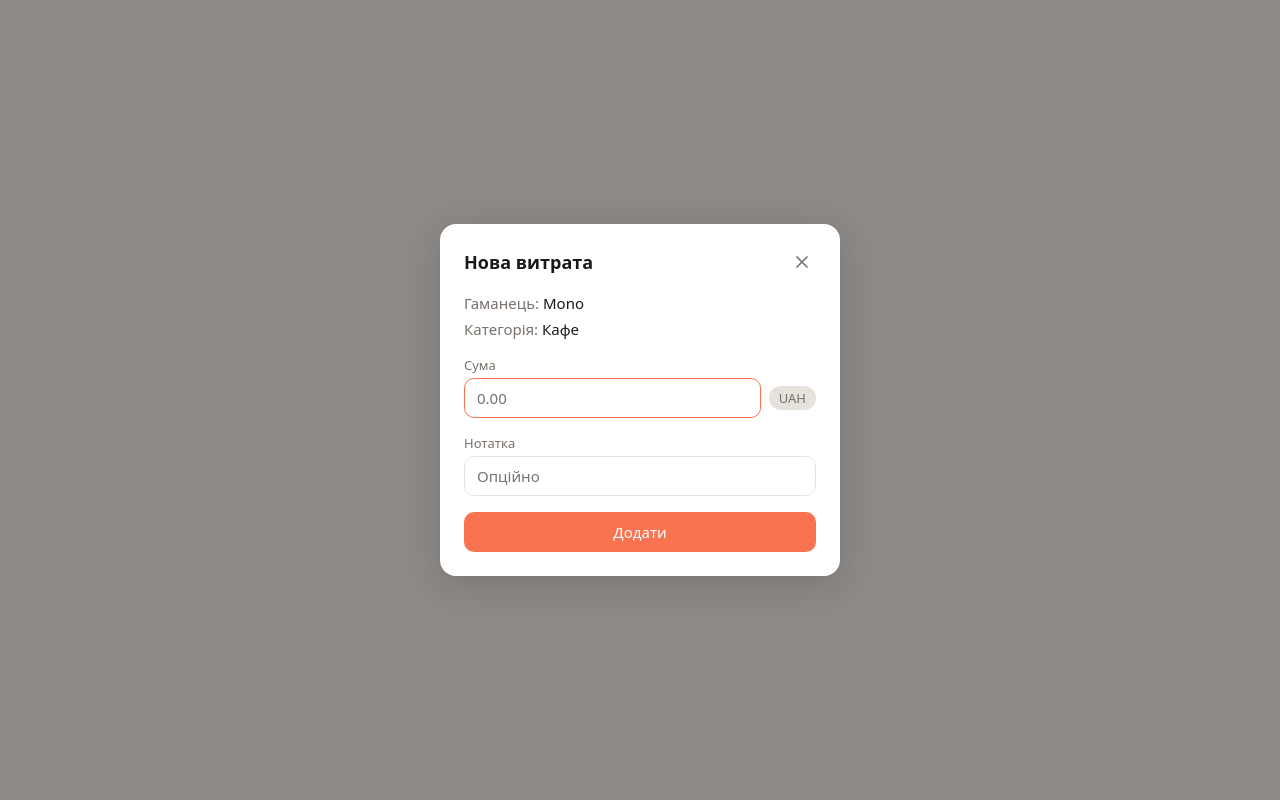
it: ExpenseDialog › reopens with the same values and the reason when the server refuses
In the field labelled "Сума": (612, 398) x1=464 y1=378 x2=761 y2=418, type "340"
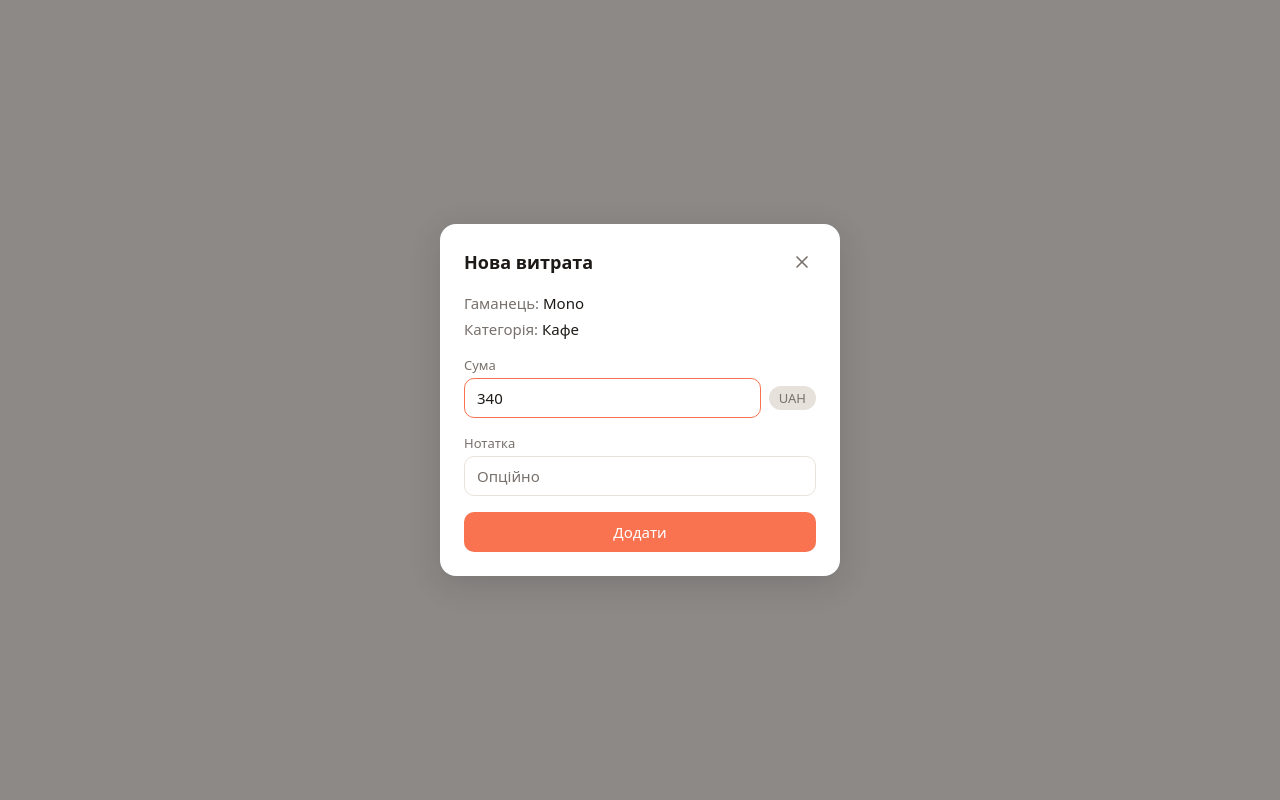
Click the button "Додати": (640, 532) x1=464 y1=512 x2=816 y2=552
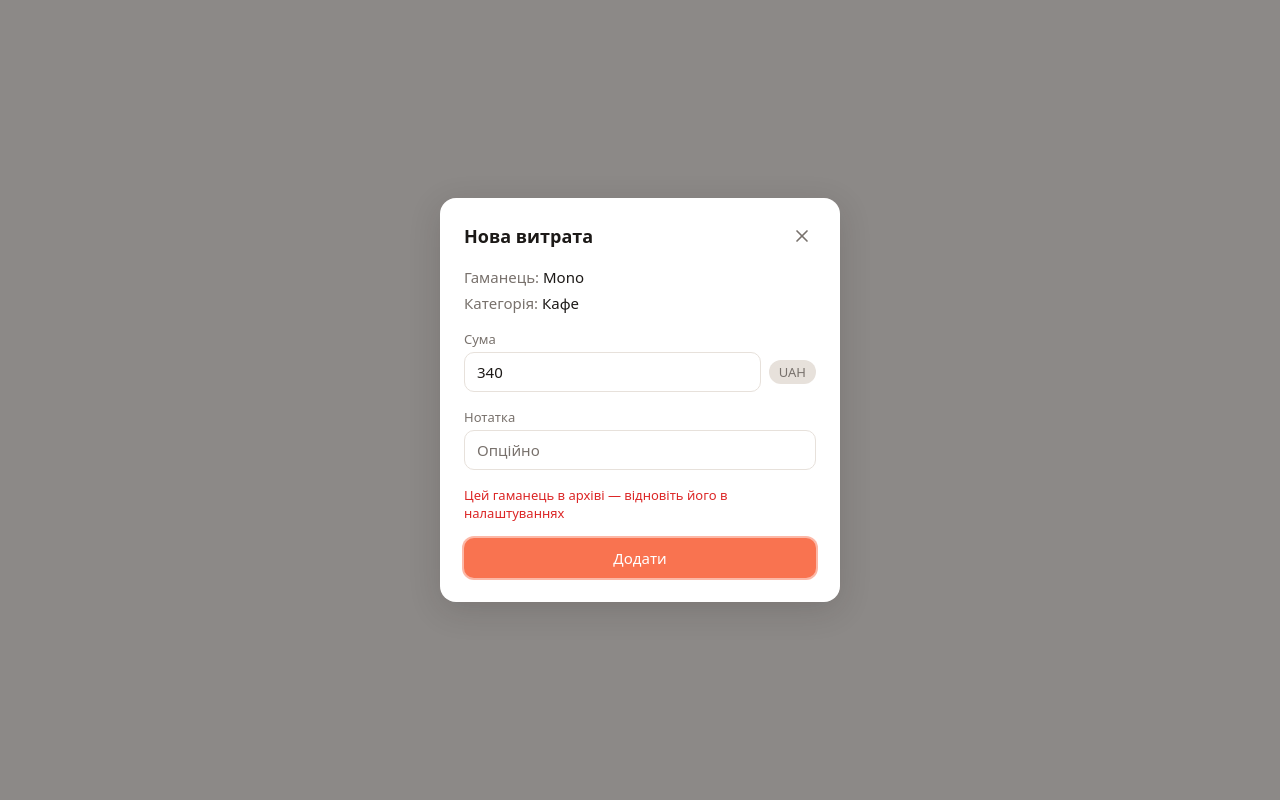
Now the message reads "Цей гаманець в архіві — відновіть його в налаштуваннях", box x1=464 y1=486 x2=727 y2=522
